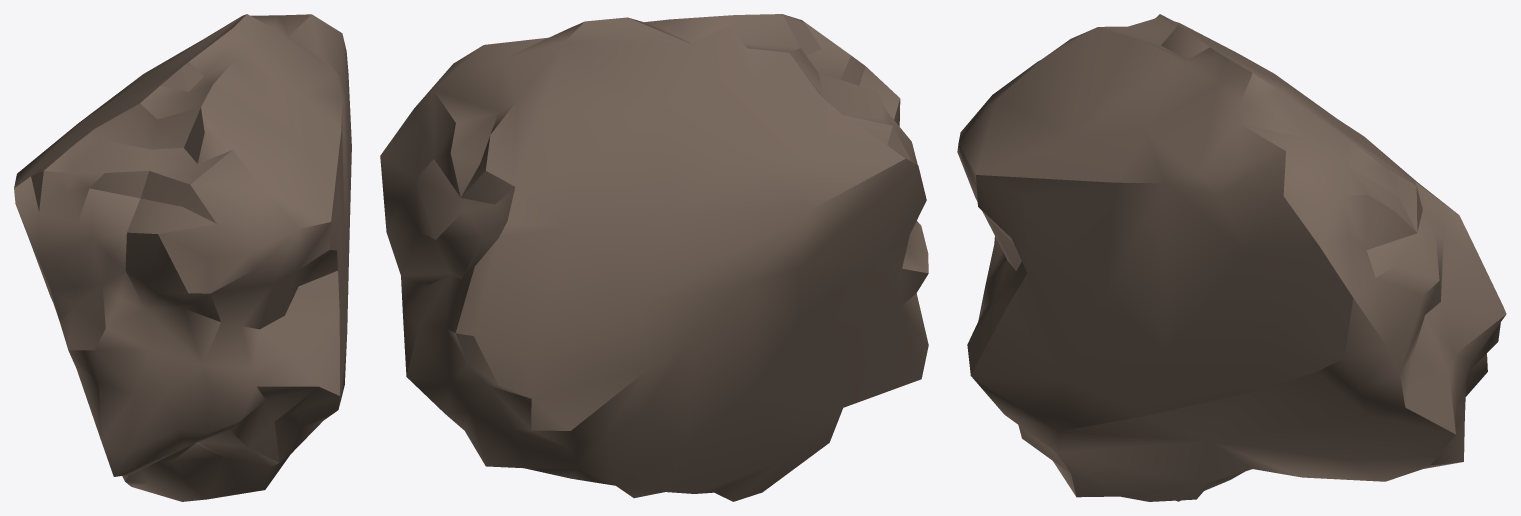
Rendered from Meteor.fbx.
3 renders of one model, left to right at view 1: azimuth 30°, elevation 25°; view 2: azimuth 150°, elevation 25°; view 3: azimuth 270°, elevation 25°, orthographic. The views are drawn at different scales.
Parts seen in each view (by area): view 1: Meteor; view 2: Meteor; view 3: Meteor.
Boxes of the visible parts, x1,y1,x2,y2 form: Meteor: [14, 14, 351, 501]; Meteor: [380, 14, 928, 501]; Meteor: [957, 14, 1506, 501].
Bounding box in the file's own units: 2.09 × 2.07 × 2.11.
